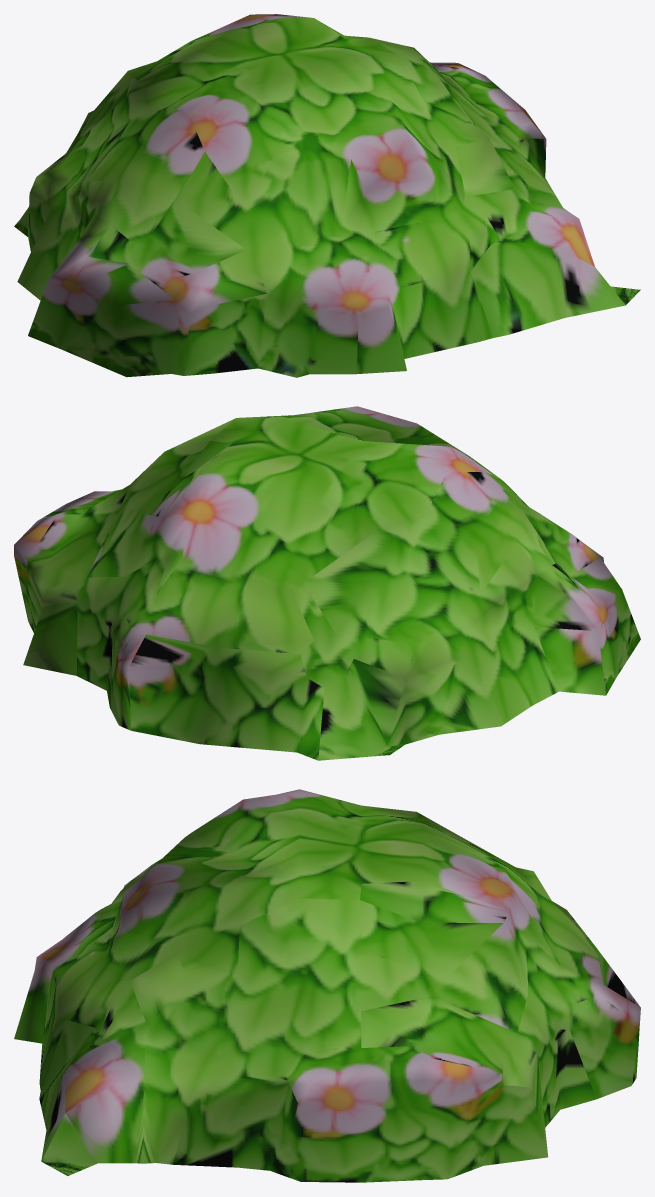
File: Bush_Flower.glb
3 renders of one model, top to bottom at view 1: azimuth 30°, elevation 25°; view 2: azimuth 150°, elevation 25°; view 3: azimuth 270°, elevation 25°, orthographic. The views are drawn at different scales.
Parts seen in each view (by area): view 1: mesh; view 2: mesh; view 3: mesh.
Part boxes in pixels (box(x1,y1,x2,y2)): mesh: box(14, 14, 640, 377); mesh: box(14, 406, 640, 760); mesh: box(14, 789, 640, 1182).
Bounding box in the file's own units: 1.71 × 0.6233 × 1.62.
Materials: 1 (1 with a texture image).
